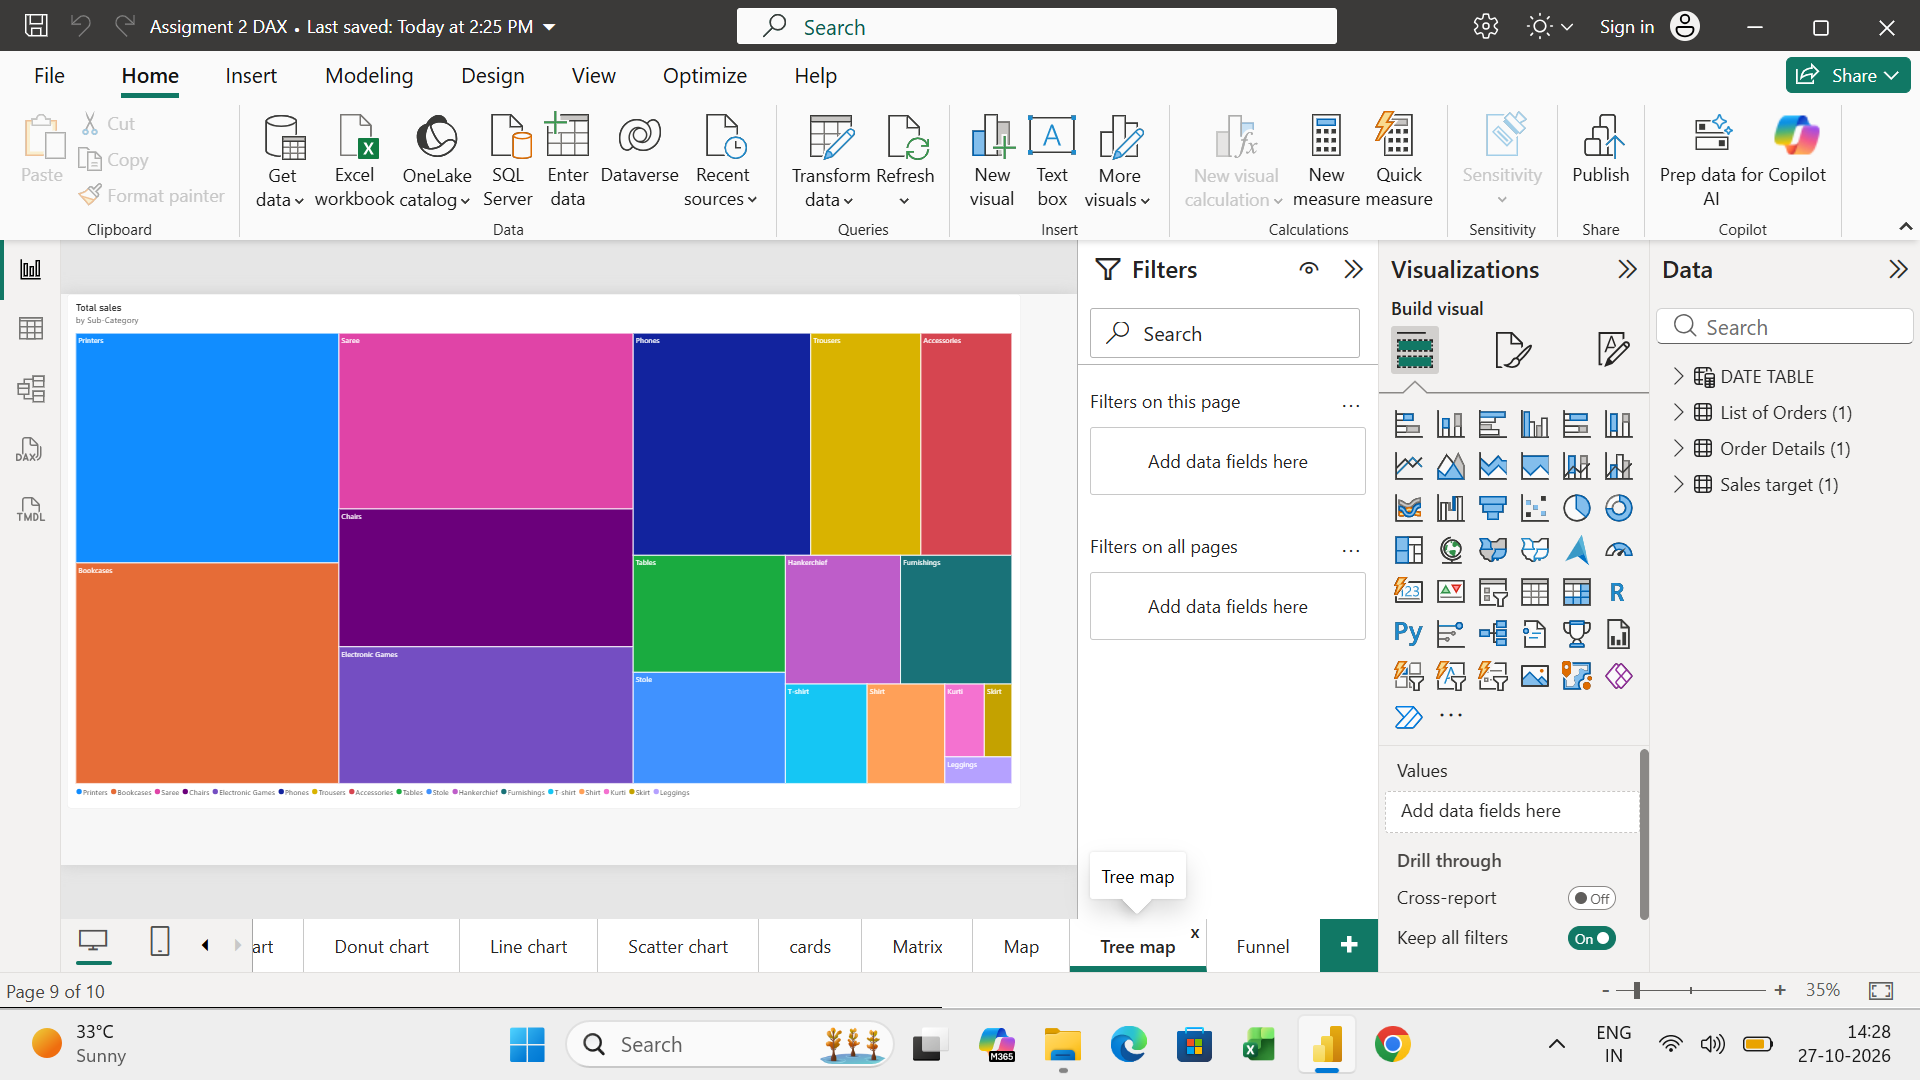

The dashboard page shown, as its layout file describes it:
{"tool":"powerbi","page":{"name":"Tree map","canvas":[1920,1080],"ordinal":8},"visuals":[{"type":"treemap","fields":{"Group":["Order Details (1).Sub-Category"],"Values":["Order Details (1).Total sales"]},"box":[11.3,0,1802.8,972.3],"z":0}]}

Visuals, with their boxes on the page's 1920x1080 design canvas (x1, y1, x2, y2). These are canvas units, not pixel positions in the 1920x1080 screenshot, which may show the page scaled, cropped or inside an application window:
treemap - Order Details (1).Sub-Category x Order Details (1).Total sales: pyautogui.locateOnScreen(11, 0, 1814, 972)
